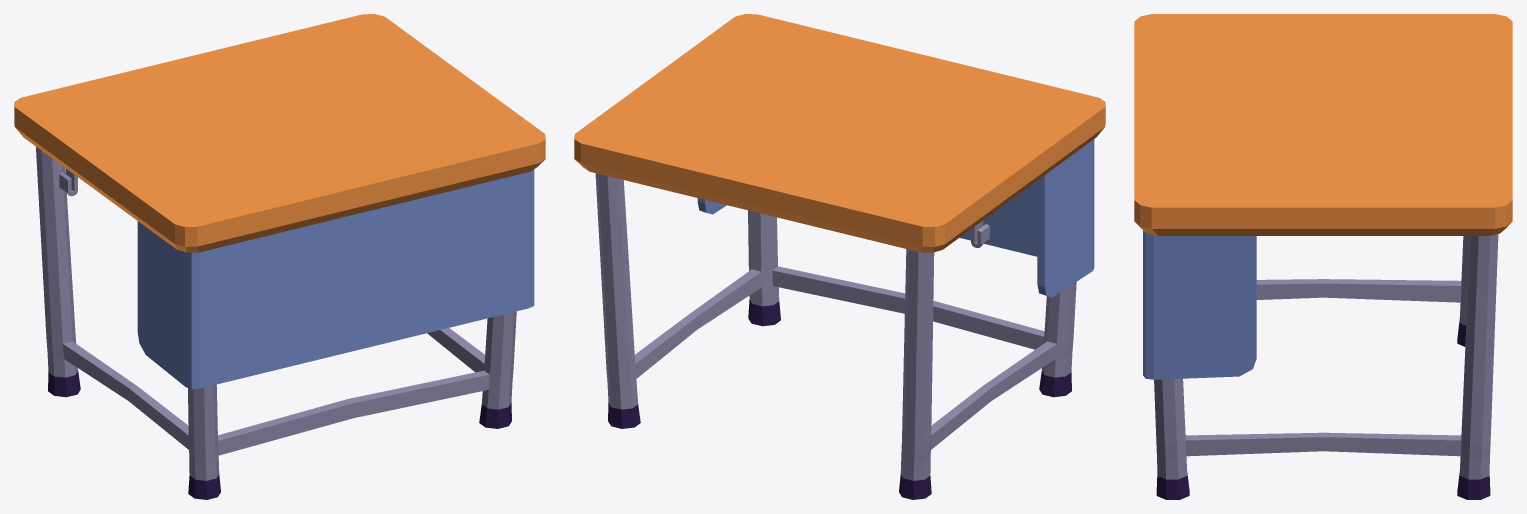
The model's file is Table.fbx.
3 views of the same model, side by side, from view 1: azimuth 30°, elevation 25°; view 2: azimuth 150°, elevation 25°; view 3: azimuth 270°, elevation 25° (orthographic). The views are drawn at different scales.
Visible parts, largest first — view 1: Table, Table.003, Table.001, Table.002; view 2: Table, Table.001, Table.003, Table.002; view 3: Table, Table.001, Table.002, Table.003.
Boxes of the visible parts, box(x1,y1,x2,y2) form: Table: box(14, 15, 545, 498); Table.003: box(84, 160, 400, 499); Table.001: box(14, 14, 415, 397); Table.002: box(378, 139, 545, 428); Table: box(574, 14, 1105, 499); Table.001: box(574, 110, 1013, 497); Table.003: box(887, 105, 1105, 382); Table.002: box(655, 200, 886, 363); Table: box(1134, 14, 1512, 499); Table.001: box(1346, 14, 1512, 499); Table.002: box(1134, 200, 1426, 499); Table.003: box(1256, 279, 1354, 299).
Size of the model in its own units: 1350 by 995 by 1114.
